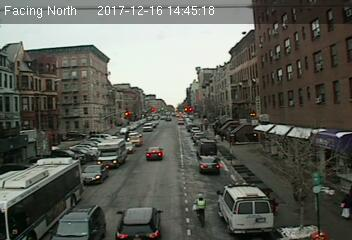bicycle: (192, 193, 209, 228)
bus: (1, 158, 86, 240)
car: (48, 207, 104, 240), (114, 208, 162, 240), (82, 163, 106, 184), (199, 155, 219, 172), (145, 146, 162, 160)
police: (215, 183, 273, 233)
truck: (95, 138, 127, 167)
